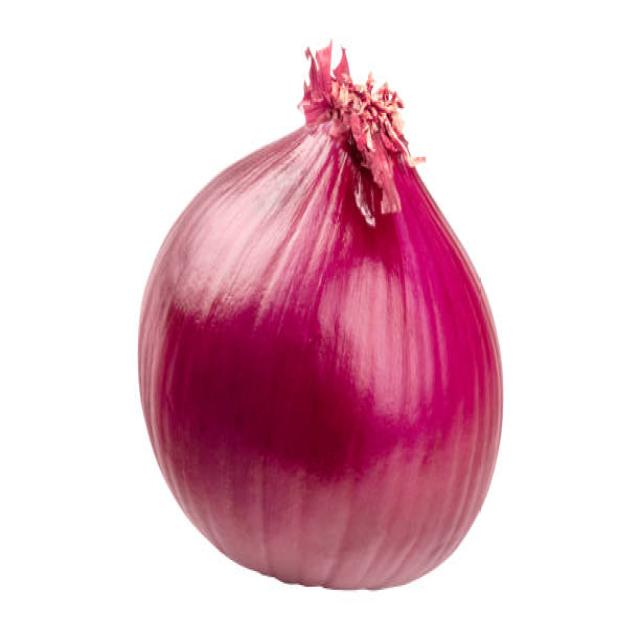onion: (132, 91, 506, 591)
